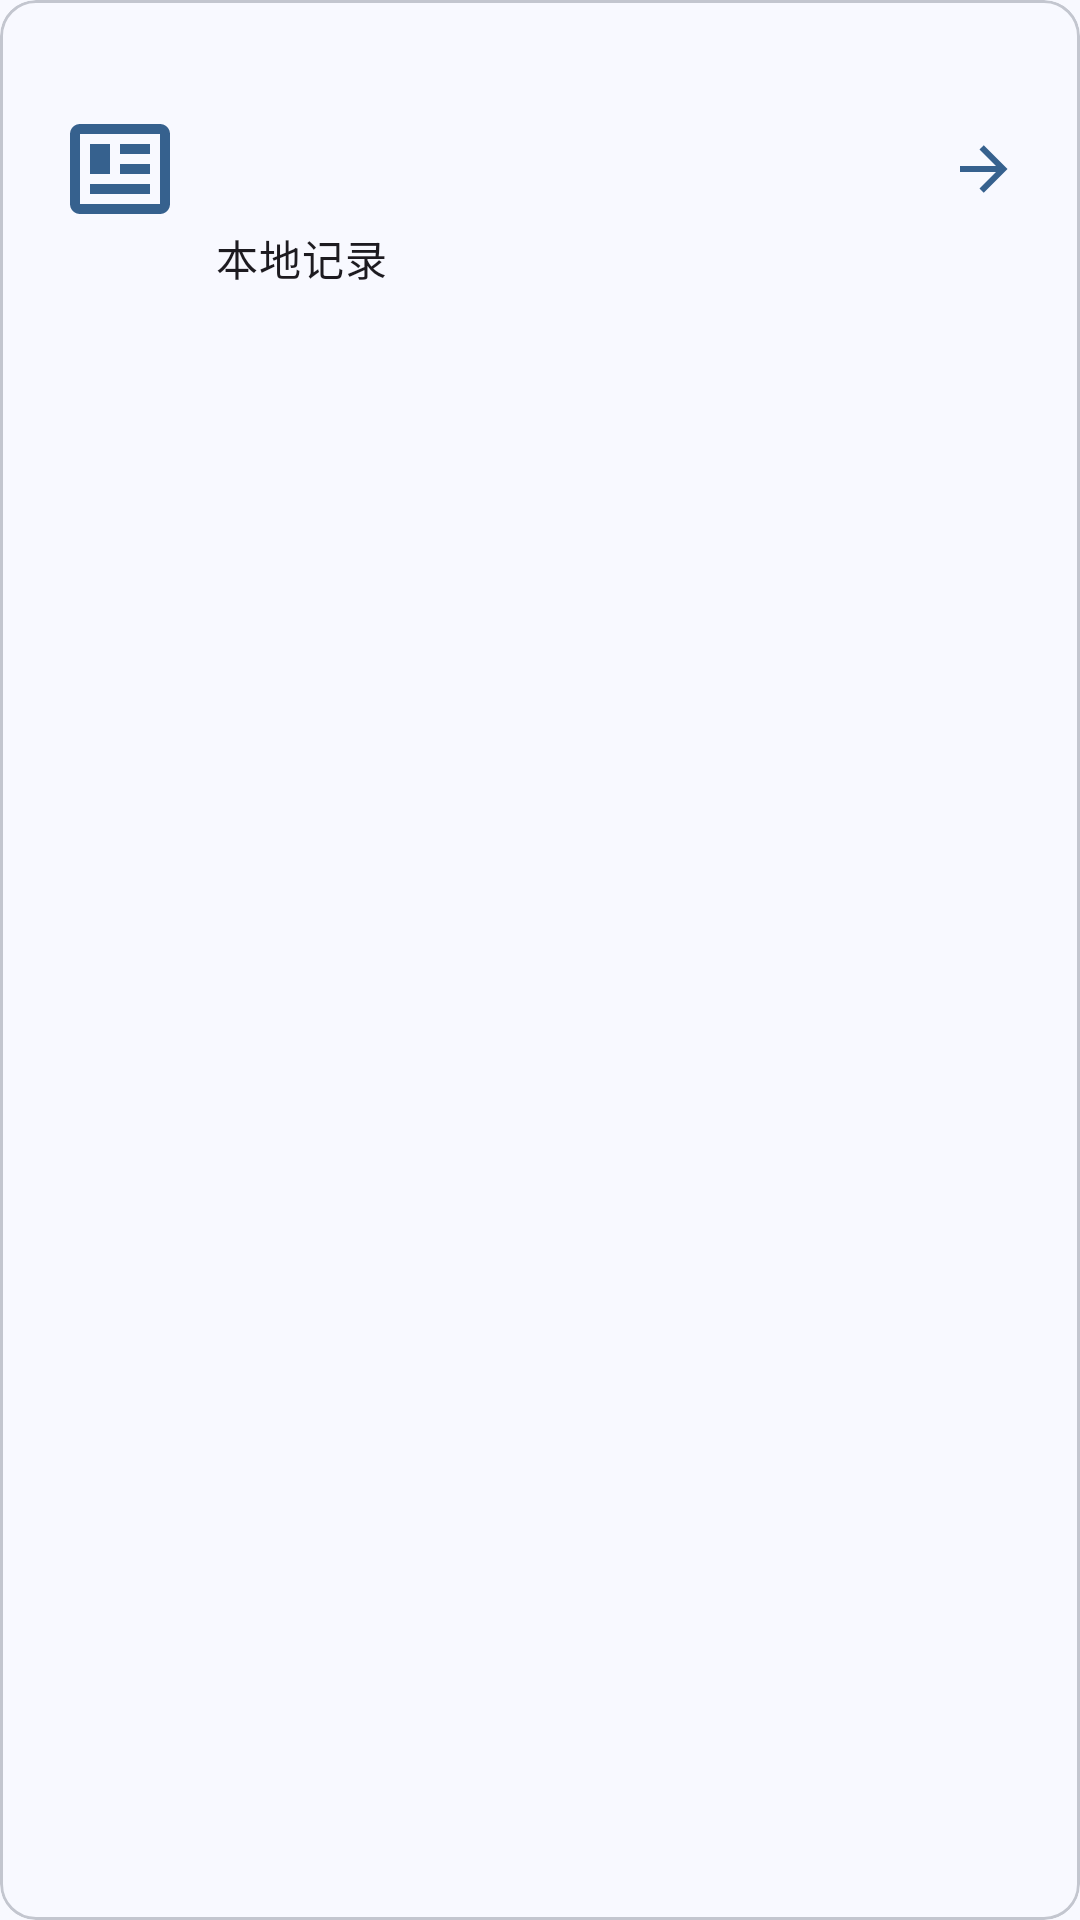

Where to tap for icons on this 1080px x 1920px app screen, as (x=x, y=y):
arrow: (x=983, y=169)
